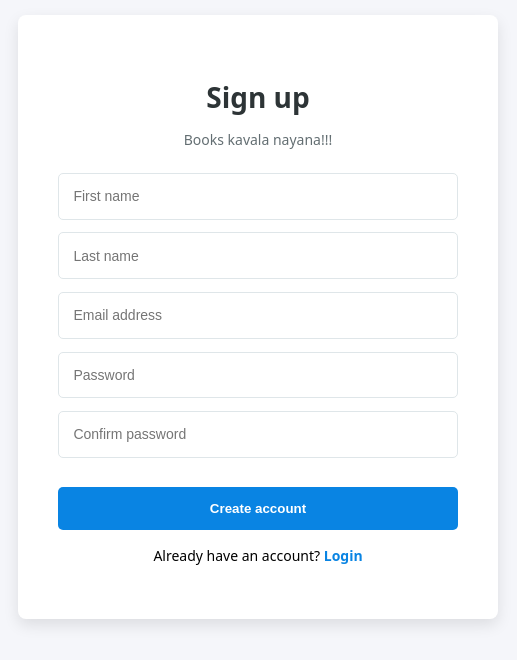
Register Component › shows error when passwords do not match
Type "mahi" into the field with placeholder "First name" at (258, 196), box [58, 173, 458, 220]
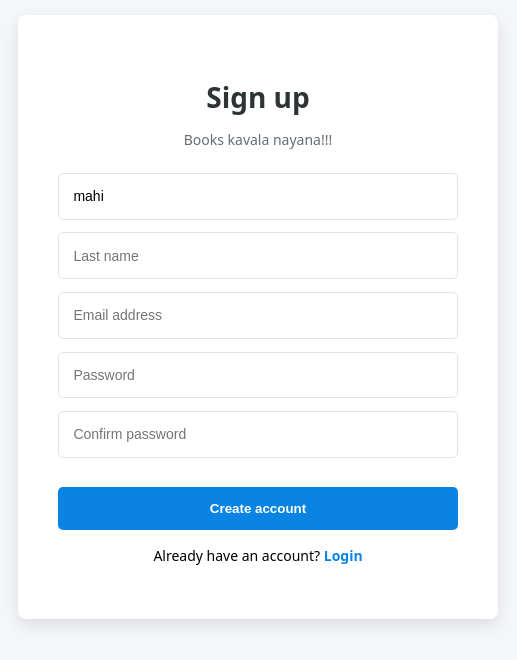
Type "gude" into the field with placeholder "Last name" at (258, 256), box [58, 232, 458, 279]
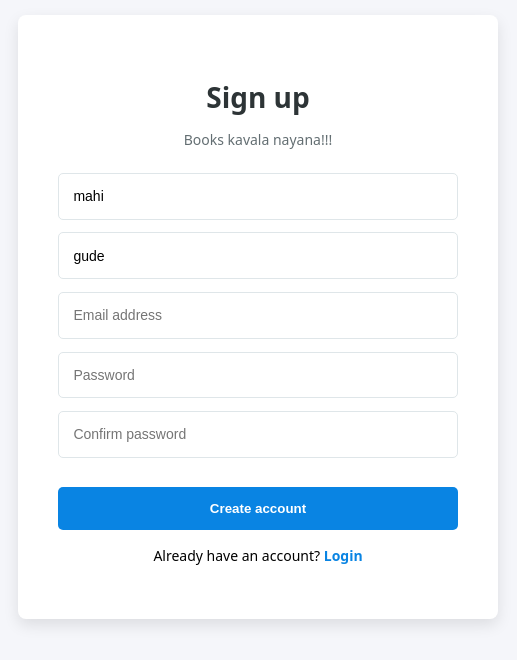
Type "mahi@gmail.com" into the field with placeholder "Email address" at (258, 315), box [58, 292, 458, 339]
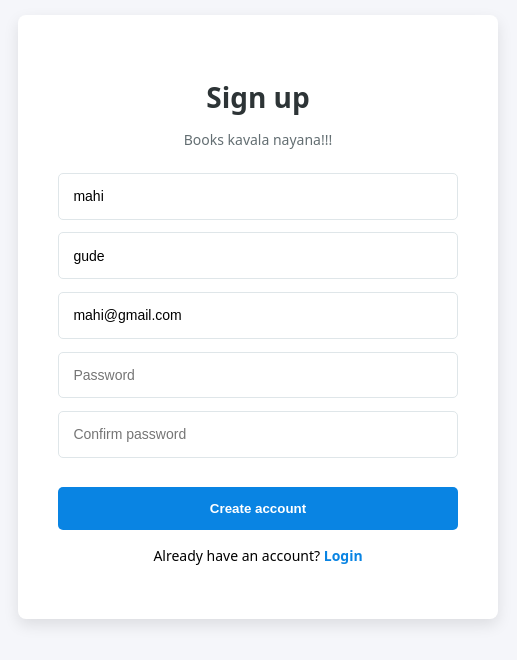
Type "1234" into the password field with placeholder "Password" at (258, 375), box [58, 352, 458, 398]
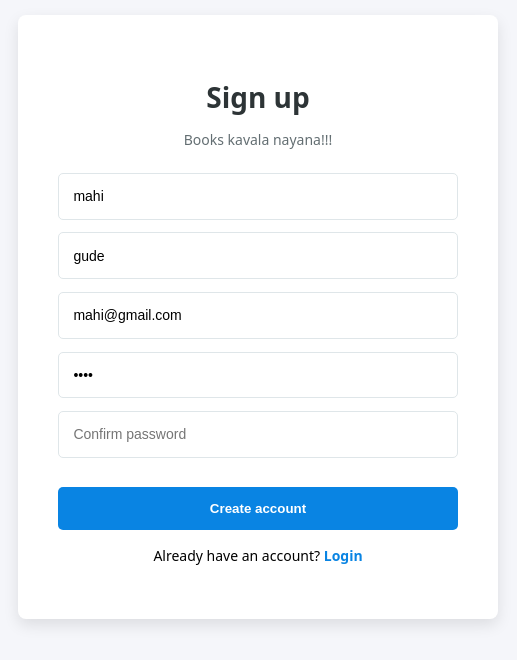
Type "4321" into the password field with placeholder "Confirm password" at (258, 434), box [58, 411, 458, 458]
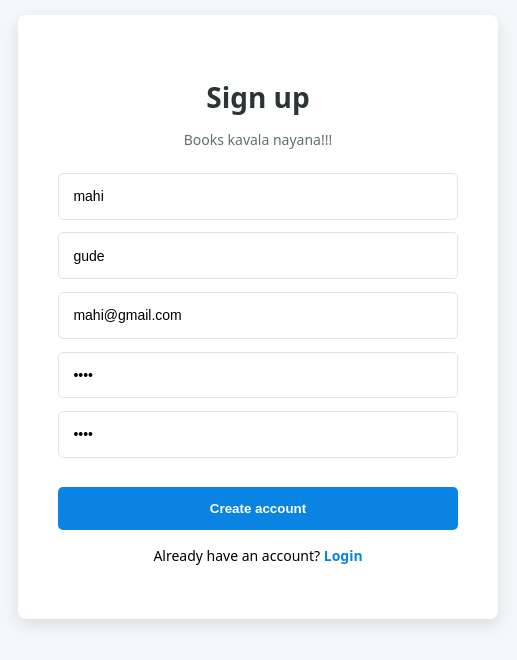
Click the button "Create account" at (258, 509), box [58, 487, 458, 530]
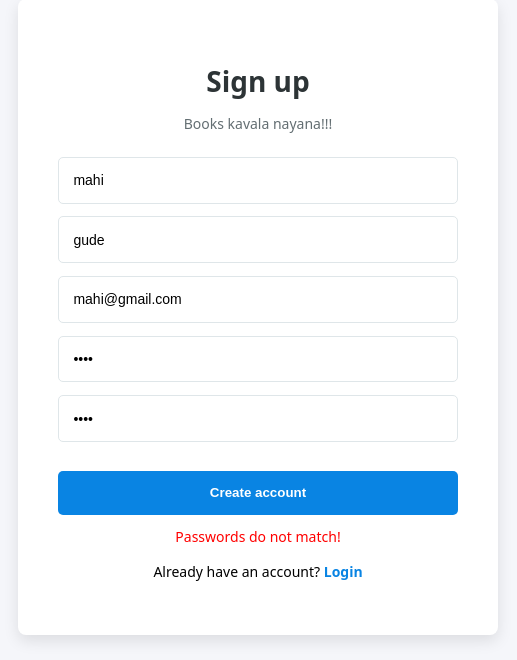
Expected: the text "Passwords do not match!" is shown, [175, 527, 341, 546]
